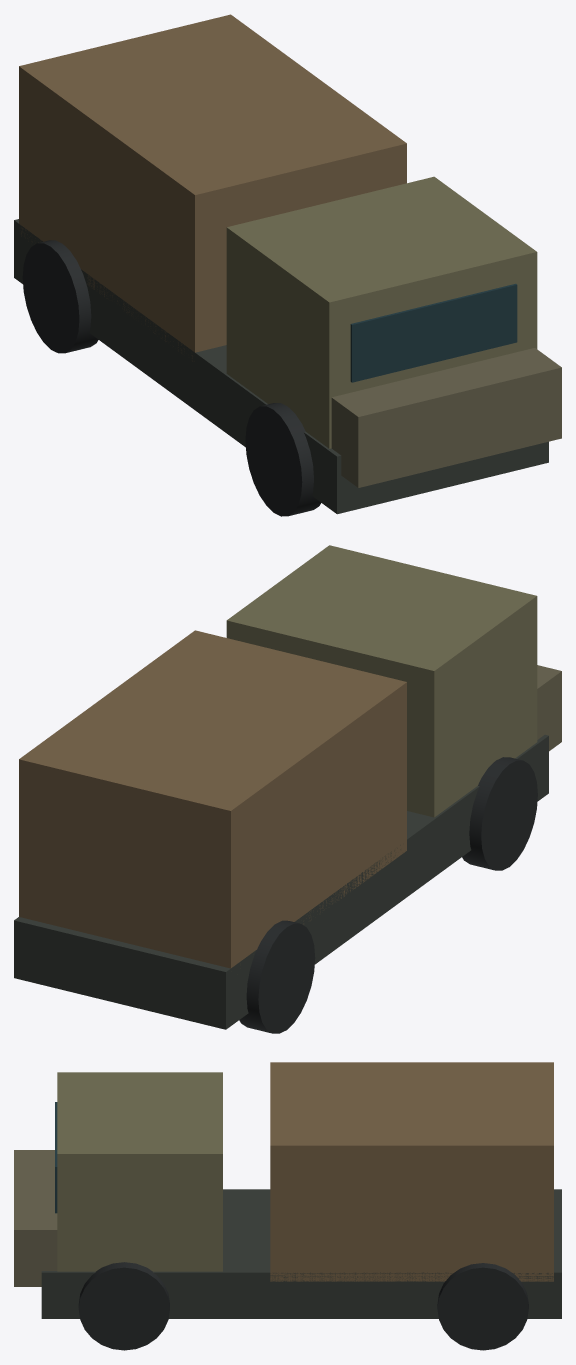
The model's file is ENV_Solid.glb.
The picture shows the model from 3 angles, top to bottom: view 1: azimuth 30°, elevation 25°; view 2: azimuth 150°, elevation 25°; view 3: azimuth 270°, elevation 25°; orthographic projection. The views are drawn at different scales.
Parts seen in each view (by area): view 1: Cargo, Cabin, Hood, Chassis, Windshield, WheelFL, WheelBL; view 2: Cargo, Cabin, Chassis, WheelFL, WheelBL, Hood; view 3: Cargo, Cabin, Chassis, WheelFR, WheelBR, Hood.
Part boxes in pixels (x1,y1,x2,y2): Cargo: (19,14,406,361); Cabin: (226,176,537,448); Hood: (331,348,561,487); Chassis: (14,219,548,514); Windshield: (350,283,517,382); WheelFL: (245,403,320,516); WheelBL: (22,240,98,353); Cargo: (19,630,406,968); Cabin: (226,545,537,817); Chassis: (14,734,548,1029); WheelFL: (462,757,537,870); WheelBL: (239,920,315,1033); Hood: (537,665,561,751); Cargo: (270,1062,553,1281); Cabin: (57,1072,222,1271); Chassis: (41,1189,561,1318); WheelFR: (78,1262,169,1350); WheelBR: (437,1263,528,1350); Hood: (14,1150,57,1286).
Size of what is drawn, in the model's own units: 2.78 by 2.8 by 6.95.
